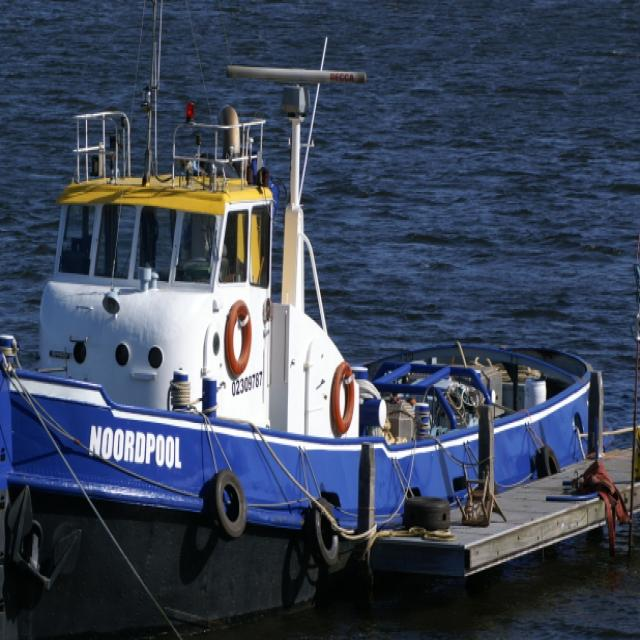tugboat: (1, 57, 608, 640)
